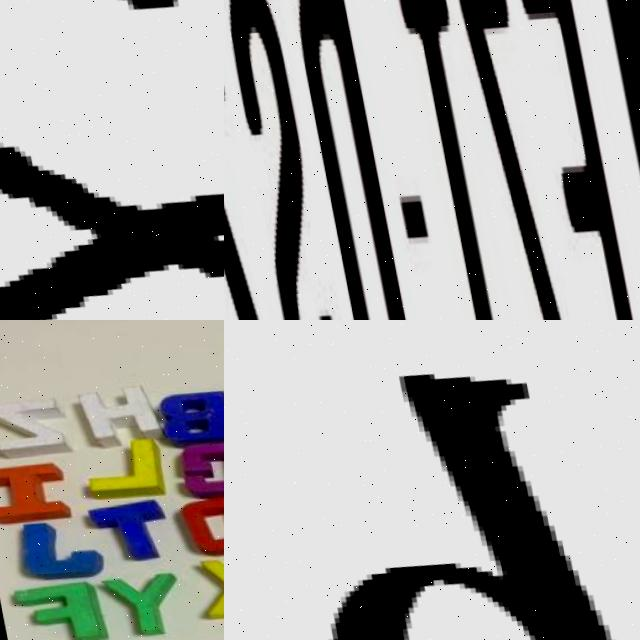2: (0, 0, 224, 320), (224, 0, 297, 320)
B: (328, 368, 616, 640), (157, 376, 224, 443)
D: (283, 0, 435, 320)
F: (507, 0, 640, 320), (4, 573, 104, 640)
G: (179, 427, 224, 496)
H: (64, 373, 167, 449)
I: (0, 455, 69, 528)
J: (10, 509, 104, 588)
L: (73, 429, 161, 501)
O: (170, 484, 224, 559)
S: (224, 0, 359, 320)
T: (388, 0, 529, 320), (82, 489, 168, 564)
X: (189, 540, 224, 622)
Y: (93, 562, 180, 640)
Z: (440, 0, 594, 320), (0, 391, 66, 466)
